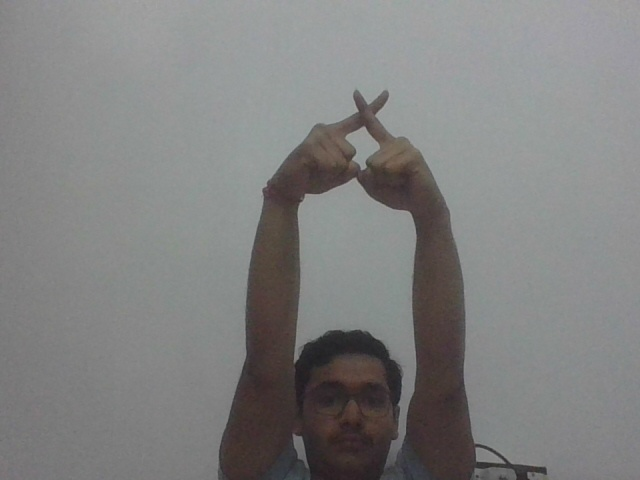X: (278, 86, 454, 214)
